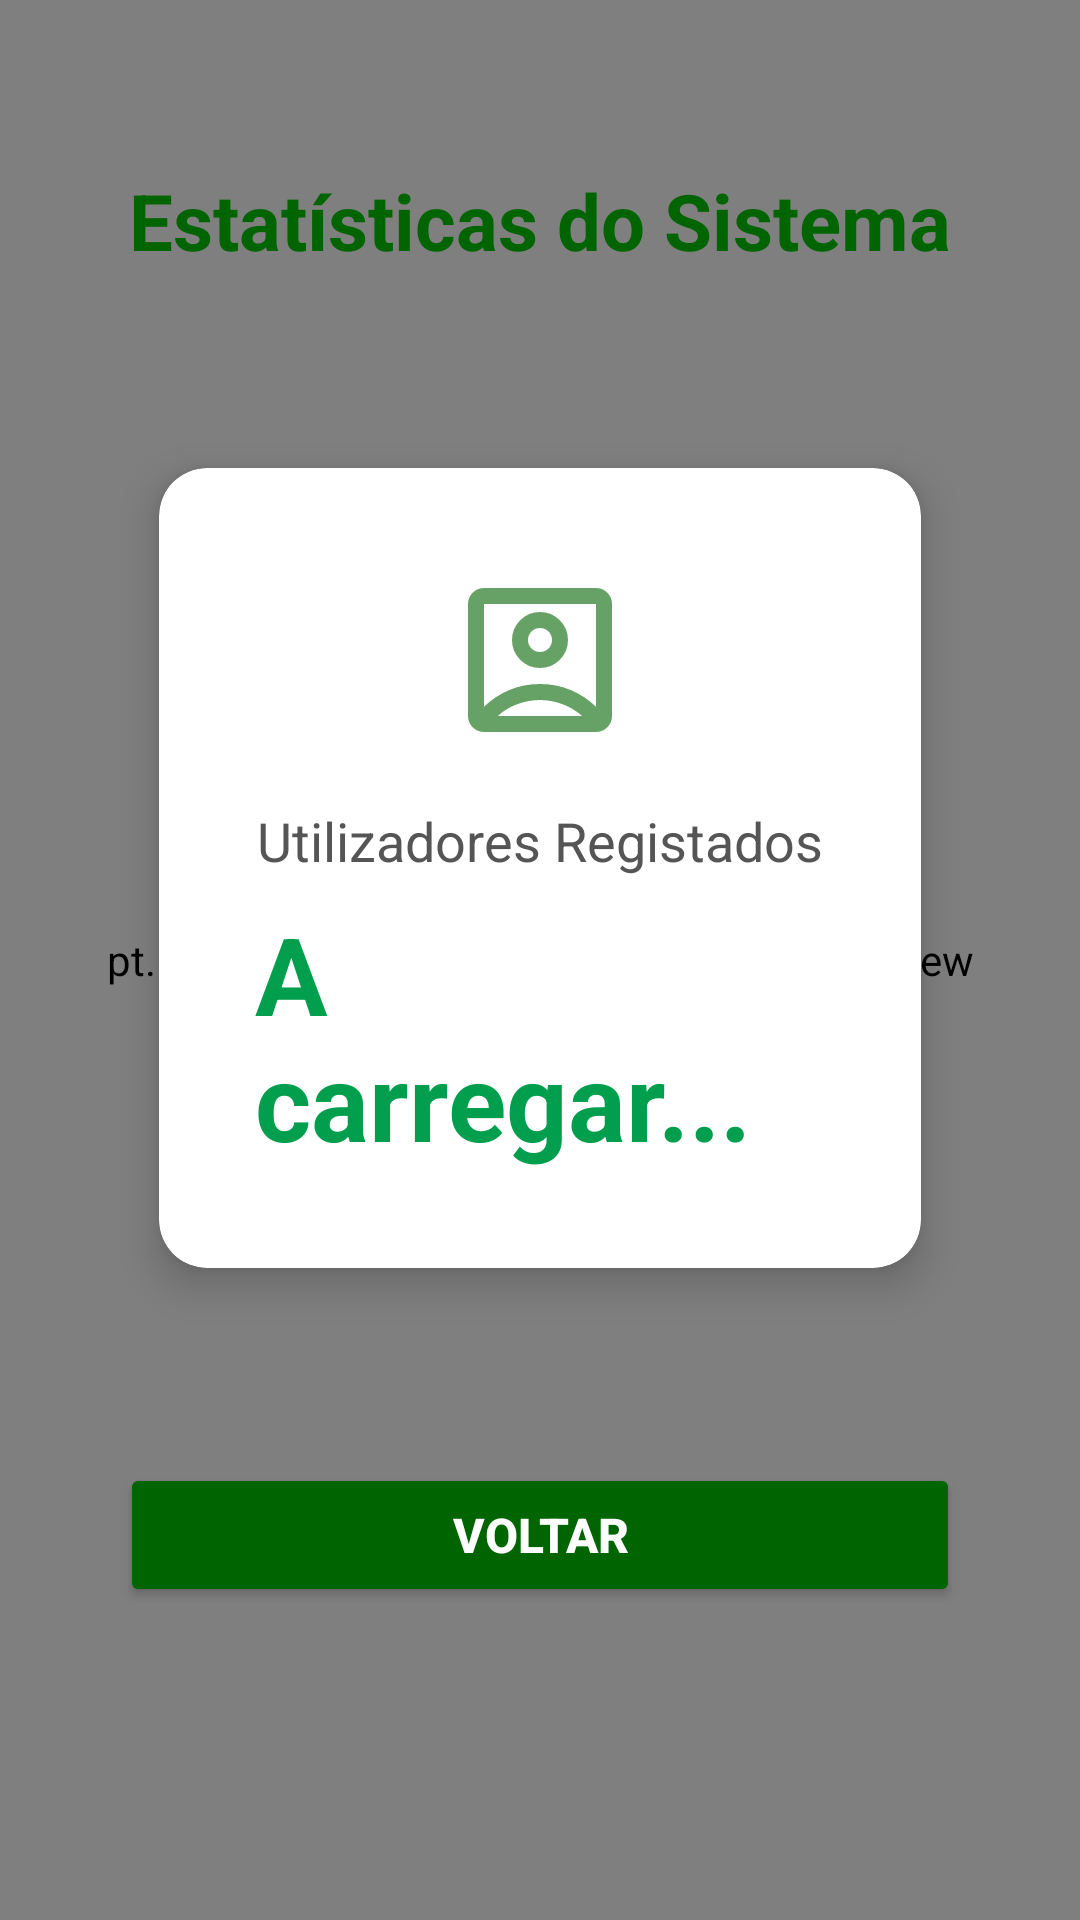

Where icons sit on this 1080x1920 app screen, as bbox(x1, y1, x2, y2):
perfil: bbox(468, 588, 612, 732)
